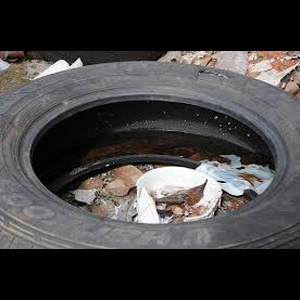tire: (1, 59, 300, 249)
